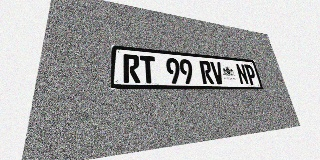9: (165, 57, 182, 84), (179, 59, 195, 84)
N: (235, 63, 249, 85)
P: (244, 64, 258, 85)
R: (123, 54, 140, 83), (199, 60, 214, 84)
T: (140, 55, 156, 83)
V: (210, 61, 225, 84)
